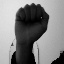a: (13, 3, 50, 44)
